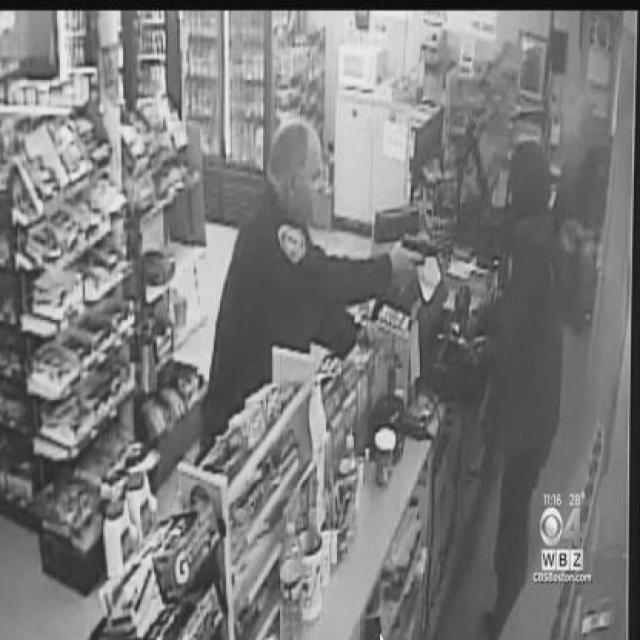weapon: (398, 234, 449, 286)
